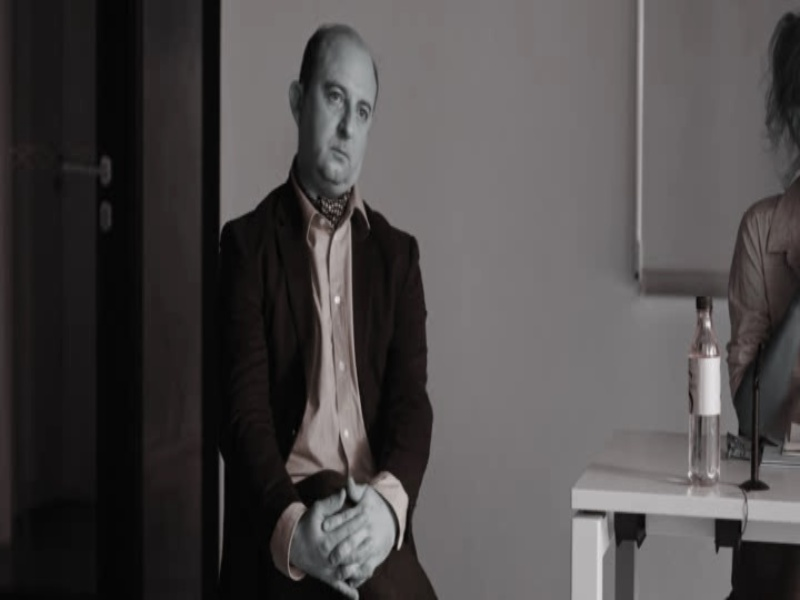TsisyArotava: (283, 27, 391, 208)
